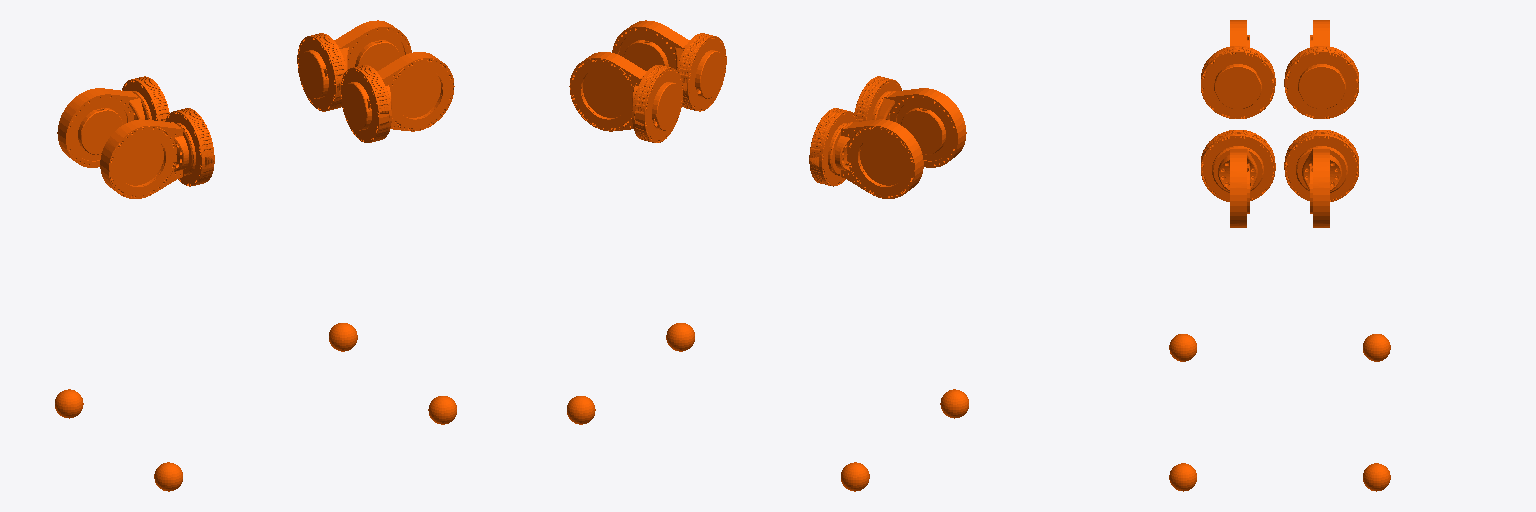
--- What the picture shows (computed from the rendered views, not written in the file) ---
3 views of the same robot in one strip: view 1: azimuth 30°, elevation 25°; view 2: azimuth 150°, elevation 25°; view 3: azimuth 270°, elevation 25° (orthographic).
Model quake_description with 23 links and 22 joints (12 revolute, 10 fixed), rooted at base, posed all joints at 0.
Visible links, largest first — view 1: RR_hip, FR_hip, FL_hip, RL_hip, RR_foot, FL_foot, FR_foot, RL_foot; view 2: RL_hip, FL_hip, FR_hip, RR_hip, RL_foot, FR_foot, FL_foot, RR_foot; view 3: RL_hip, RR_hip, FL_hip, FR_hip, RR_foot, RL_foot, FR_foot, FL_foot.
Link boxes in pixels (x1,y1,x2,y2): RR_hip: [100, 108, 214, 198]; FR_hip: [341, 52, 454, 142]; FL_hip: [297, 20, 411, 111]; RL_hip: [57, 76, 169, 167]; RR_foot: [154, 462, 182, 491]; FL_foot: [329, 323, 357, 351]; FR_foot: [428, 396, 456, 424]; RL_foot: [55, 389, 83, 418]; RL_hip: [809, 108, 923, 198]; FL_hip: [569, 52, 682, 142]; FR_hip: [612, 20, 726, 111]; RR_hip: [854, 76, 966, 167]; RL_foot: [841, 462, 869, 491]; FR_foot: [666, 323, 694, 351]; FL_foot: [567, 396, 595, 424]; RR_foot: [940, 389, 968, 418]; RL_hip: [1284, 20, 1358, 118]; RR_hip: [1201, 20, 1275, 118]; FL_hip: [1284, 130, 1358, 227]; FR_hip: [1201, 130, 1275, 227]; RR_foot: [1169, 334, 1196, 361]; RL_foot: [1363, 334, 1390, 361]; FR_foot: [1169, 463, 1196, 491]; FL_foot: [1363, 463, 1390, 491].
Size in the robot's own frame: 0.877 by 0.502 by 0.839 metres.
4 mesh visuals loaded from 5 distinct referenced files (1 binary STL); not drawn: 9 (reference not matched to a file when rendering).

The robot description file, URDF, robot "quake_description":
<?xml version="1.0" encoding="utf-8"?>
<!-- =================================================================================== -->
<!-- |    This document was autogenerated by xacro from robot.xacro                    | -->
<!-- |    EDITING THIS FILE BY HAND IS NOT RECOMMENDED                                 | -->
<!-- =================================================================================== -->
<robot name="quake_description">
  <!-- ? -->
  <!-- ? -->
  <!-- arm -->
  <!-- <xacro:property name="arm_base_mass" value=""/> 
    <xacro:property name="arm_base_width" value=""/> 
    <xacro:property name="arm_base_length" value=""/> 
    <xacro:property name="arm_base_height" value=""/> 
    <xacro:property name="arm_base_com_x" value=""/> 
    <xacro:property name="arm_base_com_y" value=""/> 
    <xacro:property name="arm_base_com_z" value=""/> 
    <xacro:property name="arm_base_ixx" value=""/>
    <xacro:property name="arm_base_ixy" value=""/>
    <xacro:property name="arm_base_ixz" value=""/>
    <xacro:property name="arm_base_iyy" value=""/>
    <xacro:property name="arm_base_iyz" value=""/>
    <xacro:property name="arm_base_izz" value=""/> -->
  <material name="black">
    <color rgba="0.0 0.0 0.0 1.0"/>
  </material>
  <material name="blue">
    <color rgba="0.0 0.0 0.8 1.0"/>
  </material>
  <material name="green">
    <color rgba="0.0 0.8 0.0 1.0"/>
  </material>
  <material name="grey">
    <color rgba="0.2 0.2 0.2 1.0"/>
  </material>
  <material name="silver">
    <color rgba="0.913725490196 0.913725490196 0.847058823529 1.0"/>
  </material>
  <material name="orange">
    <color rgba="1.0 0.423529411765 0.0392156862745 1.0"/>
  </material>
  <material name="brown">
    <color rgba="0.870588235294 0.811764705882 0.764705882353 1.0"/>
  </material>
  <material name="red">
    <color rgba="0.8 0.0 0.0 1.0"/>
  </material>
  <material name="white">
    <color rgba="1.0 1.0 1.0 1.0"/>
  </material>
  <!-- ros_control plugin -->
  <gazebo>
    <plugin filename="libgazebo_ros_control.so" name="gazebo_ros_control">
      <robotNamespace>/quake_gazebo</robotNamespace>
      <robotSimType>gazebo_ros_control/DefaultRobotHWSim</robotSimType>
    </plugin>
  </gazebo>
  <!-- Show the trajectory of trunk center. -->
  <gazebo>
    <plugin filename="libLinkPlot3DPlugin.so" name="3dplot">
      <frequency>10</frequency>
      <plot>
        <link>base</link>
        <pose>0 0 0 0 0 0</pose>
        <material>Gazebo/Yellow</material>
      </plot>
    </plugin>
  </gazebo>
  <!-- Show the trajectory of foot. You can add another trajectory about another foot. -->
  <!-- <gazebo>
        <plugin name="3dplot" filename="libLinkPlot3DPlugin.so">
            <frequency>100</frequency>
            <plot>
                <link>FL_foot</link>
                <pose>0 0 0 0 0 0</pose>
                <material>Gazebo/Green</material>
            </plot>
        </plugin>
    </gazebo> -->
  <gazebo>
    <plugin filename="libgazebo_ros_force.so" name="gazebo_ros_force">
      <bodyName>trunk</bodyName>
      <topicName>/apply_force/trunk</topicName>
    </plugin>
  </gazebo>
  <gazebo reference="imu_link">
    <gravity>true</gravity>
    <sensor name="imu_sensor" type="imu">
      <always_on>true</always_on>
      <update_rate>1000</update_rate>
      <visualize>true</visualize>
      <topic>__default_topic__</topic>
      <plugin filename="libgazebo_ros_imu_sensor.so" name="imu_plugin">
        <topicName>trunk_imu</topicName>
        <bodyName>imu_link</bodyName>
        <updateRateHZ>1000.0</updateRateHZ>
        <gaussianNoise>0.001</gaussianNoise>
        <xyzOffset>0 0 0</xyzOffset>
        <rpyOffset>0 0 0</rpyOffset>
        <frameName>imu_link</frameName>
      </plugin>
      <pose>0 0 0 0 0 0</pose>
    </sensor>
  </gazebo>
  <!-- Foot contacts. -->
  <gazebo reference="FR_calf">
    <sensor name="FR_foot_contact" type="contact">
      <update_rate>100</update_rate>
      <plugin filename="libunitreeFootContactPlugin.so" name="contactPlugin"/>
      <contact>
        <collision>FR_calf_fixed_joint_lump__FR_foot_collision_1</collision>
      </contact>
    </sensor>
  </gazebo>
  <gazebo reference="FL_calf">
    <sensor name="FL_foot_contact" type="contact">
      <update_rate>100</update_rate>
      <plugin filename="libunitreeFootContactPlugin.so" name="contactPlugin"/>
      <contact>
        <collision>FL_calf_fixed_joint_lump__FL_foot_collision_1</collision>
      </contact>
    </sensor>
  </gazebo>
  <gazebo reference="RR_calf">
    <sensor name="RR_foot_contact" type="contact">
      <update_rate>100</update_rate>
      <plugin filename="libunitreeFootContactPlugin.so" name="contactPlugin"/>
      <contact>
        <collision>RR_calf_fixed_joint_lump__RR_foot_collision_1</collision>
      </contact>
    </sensor>
  </gazebo>
  <gazebo reference="RL_calf">
    <sensor name="RL_foot_contact" type="contact">
      <update_rate>100</update_rate>
      <plugin filename="libunitreeFootContactPlugin.so" name="contactPlugin"/>
      <contact>
        <collision>RL_calf_fixed_joint_lump__RL_foot_collision_1</collision>
      </contact>
    </sensor>
  </gazebo>
  <!-- Visualization of Foot contacts. -->
  <gazebo reference="FR_foot">
    <visual>
      <plugin filename="libunitreeDrawForcePlugin.so" name="drawForcePlugin">
        <topicName>FR_foot_contact</topicName>
      </plugin>
    </visual>
  </gazebo>
  <gazebo reference="FL_foot">
    <visual>
      <plugin filename="libunitreeDrawForcePlugin.so" name="drawForcePlugin">
        <topicName>FL_foot_contact</topicName>
      </plugin>
    </visual>
  </gazebo>
  <gazebo reference="RR_foot">
    <visual>
      <plugin filename="libunitreeDrawForcePlugin.so" name="drawForcePlugin">
        <topicName>RR_foot_contact</topicName>
      </plugin>
    </visual>
  </gazebo>
  <gazebo reference="RL_foot">
    <visual>
      <plugin filename="libunitreeDrawForcePlugin.so" name="drawForcePlugin">
        <topicName>RL_foot_contact</topicName>
      </plugin>
    </visual>
  </gazebo>
  <gazebo reference="base">
    <material>Gazebo/Green</material>
    <turnGravityOff>false</turnGravityOff>
  </gazebo>
  <gazebo reference="trunk">
    <mu1>0.2</mu1>
    <mu2>0.2</mu2>
    <kp value="1000000.0"/>
    <kd value="1.0"/>
  </gazebo>
  <gazebo reference="stick_link">
    <mu1>0.2</mu1>
    <mu2>0.2</mu2>
    <material>Gazebo/White</material>
  </gazebo>
  <gazebo reference="imu_link">
    <mu1>0.2</mu1>
    <mu2>0.2</mu2>
    <material>Gazebo/Red</material>
  </gazebo>
  <!-- FL leg -->
  <gazebo reference="FL_hip">
    <mu1>0.2</mu1>
    <mu2>0.2</mu2>
    <material>Gazebo/DarkGrey</material>
  </gazebo>
  <gazebo reference="FL_thigh">
    <mu1>0.2</mu1>
    <mu2>0.2</mu2>
    <self_collide>1</self_collide>
    <material>Gazebo/DarkGrey</material>
    <kp value="1000000.0"/>
    <kd value="1.0"/>
  </gazebo>
  <gazebo reference="FL_calf">
    <mu1>0.2</mu1>
    <mu2>0.2</mu2>
    <self_collide>1</self_collide>
  </gazebo>
  <gazebo reference="FL_foot">
    <mu1>0.6</mu1>
    <mu2>0.6</mu2>
    <self_collide>1</self_collide>
    <material>Gazebo/DarkGrey</material>
    <kp value="1000000.0"/>
    <kd value="1.0"/>
  </gazebo>
  <!-- FR leg -->
  <gazebo reference="FR_hip">
    <mu1>0.2</mu1>
    <mu2>0.2</mu2>
    <material>Gazebo/DarkGrey</material>
  </gazebo>
  <gazebo reference="FR_thigh">
    <mu1>0.2</mu1>
    <mu2>0.2</mu2>
    <self_collide>1</self_collide>
    <material>Gazebo/DarkGrey</material>
    <kp value="1000000.0"/>
    <kd value="1.0"/>
  </gazebo>
  <gazebo reference="FR_calf">
    <mu1>0.2</mu1>
    <mu2>0.2</mu2>
    <self_collide>1</self_collide>
  </gazebo>
  <gazebo reference="FR_foot">
    <mu1>0.6</mu1>
    <mu2>0.6</mu2>
    <self_collide>1</self_collide>
    <material>Gazebo/DarkGrey</material>
    <kp value="1000000.0"/>
    <kd value="1.0"/>
  </gazebo>
  <!-- RL leg -->
  <gazebo reference="RL_hip">
    <mu1>0.2</mu1>
    <mu2>0.2</mu2>
    <material>Gazebo/DarkGrey</material>
  </gazebo>
  <gazebo reference="RL_thigh">
    <mu1>0.2</mu1>
    <mu2>0.2</mu2>
    <self_collide>1</self_collide>
    <material>Gazebo/DarkGrey</material>
    <kp value="1000000.0"/>
    <kd value="1.0"/>
  </gazebo>
  <gazebo reference="RL_calf">
    <mu1>0.2</mu1>
    <mu2>0.2</mu2>
    <self_collide>1</self_collide>
  </gazebo>
  <gazebo reference="RL_foot">
    <mu1>0.6</mu1>
    <mu2>0.6</mu2>
    <self_collide>1</self_collide>
    <material>Gazebo/DarkGrey</material>
    <kp value="1000000.0"/>
    <kd value="1.0"/>
  </gazebo>
  <!-- RR leg -->
  <gazebo reference="RR_hip">
    <mu1>0.2</mu1>
    <mu2>0.2</mu2>
    <material>Gazebo/DarkGrey</material>
  </gazebo>
  <gazebo reference="RR_thigh">
    <mu1>0.2</mu1>
    <mu2>0.2</mu2>
    <self_collide>1</self_collide>
    <material>Gazebo/DarkGrey</material>
    <kp value="1000000.0"/>
    <kd value="1.0"/>
  </gazebo>
  <gazebo reference="RR_calf">
    <mu1>0.2</mu1>
    <mu2>0.2</mu2>
    <self_collide>1</self_collide>
  </gazebo>
  <gazebo reference="RR_foot">
    <mu1>0.6</mu1>
    <mu2>0.6</mu2>
    <self_collide>1</self_collide>
    <material>Gazebo/DarkGrey</material>
    <kp value="1000000.0"/>
    <kd value="1.0"/>
  </gazebo>
  <transmission name="arm_joint1_tran">
    <type>transmission_interface/SimpleTransmission</type>
    <joint name="arm_joint1">
      <hardwareInterface>hardware_interface/EffortJointInterface</hardwareInterface>
    </joint>
    <actuator name="arm_joint1_motor">
      <hardwareInterface>hardware_interface/EffortJointInterface</hardwareInterface>
      <mechanicalReduction>1</mechanicalReduction>
    </actuator>
  </transmission>
  <transmission name="arm_joint2_tran">
    <type>transmission_interface/SimpleTransmission</type>
    <joint name="arm_joint2">
      <hardwareInterface>hardware_interface/EffortJointInterface</hardwareInterface>
    </joint>
    <actuator name="arm_joint2_motor">
      <hardwareInterface>hardware_interface/EffortJointInterface</hardwareInterface>
      <mechanicalReduction>1</mechanicalReduction>
    </actuator>
  </transmission>
  <transmission name="arm_joint3_tran">
    <type>transmission_interface/SimpleTransmission</type>
    <joint name="arm_joint3">
      <hardwareInterface>hardware_interface/EffortJointInterface</hardwareInterface>
    </joint>
    <actuator name="arm_joint3_motor">
      <hardwareInterface>hardware_interface/EffortJointInterface</hardwareInterface>
      <mechanicalReduction>1</mechanicalReduction>
    </actuator>
  </transmission>
  <transmission name="arm_joint4_tran">
    <type>transmission_interface/SimpleTransmission</type>
    <joint name="arm_joint4">
      <hardwareInterface>hardware_interface/EffortJointInterface</hardwareInterface>
    </joint>
    <actuator name="arm_joint4_motor">
      <hardwareInterface>hardware_interface/EffortJointInterface</hardwareInterface>
      <mechanicalReduction>1</mechanicalReduction>
    </actuator>
  </transmission>
  <transmission name="arm_joint5_tran">
    <type>transmission_interface/SimpleTransmission</type>
    <joint name="arm_joint5">
      <hardwareInterface>hardware_interface/EffortJointInterface</hardwareInterface>
    </joint>
    <actuator name="arm_joint5_motor">
      <hardwareInterface>hardware_interface/EffortJointInterface</hardwareInterface>
      <mechanicalReduction>1</mechanicalReduction>
    </actuator>
  </transmission>
  <transmission name="arm_joint6_tran">
    <type>transmission_interface/SimpleTransmission</type>
    <joint name="arm_joint6">
      <hardwareInterface>hardware_interface/EffortJointInterface</hardwareInterface>
    </joint>
    <actuator name="arm_joint6_motor">
      <hardwareInterface>hardware_interface/EffortJointInterface</hardwareInterface>
      <mechanicalReduction>1</mechanicalReduction>
    </actuator>
  </transmission>
  <link name="base">
    <visual>
      <origin rpy="0 0 0" xyz="0 0 0"/>
      <geometry>
        <box size="0.001 0.001 0.001"/>
      </geometry>
    </visual>
  </link>
  <joint name="floating_base" type="fixed">
    <origin rpy="0 0 0" xyz="0 0 0"/>
    <parent link="base"/>
    <child link="trunk"/>
  </joint>
  <link name="trunk">
    <visual>
      <origin rpy="0 0 0" xyz="0 0 0"/>
      <geometry>
        <mesh filename="package://quake_description/meshes/trunk.STL" scale="1 1 1"/>
      </geometry>
      <material name="orange"/>
    </visual>
    <!-- <collision>
            <origin rpy="0 0 0" xyz="0 0 0"/>
            <geometry>
                <mesh filename="package://quake_description/meshes/trunk.STL" scale="1 1 1"/>
            </geometry>
        </collision> -->
    <inertial>
      <origin rpy="0 0 0" xyz="0.0 0.0 0.0"/>
      <mass value="40.116"/>
      <inertia ixx="0.2" ixy="-0.00023853" ixz="2.4844e-05" iyy="0.5" iyz="-0.00044715" izz="0.6"/>
    </inertial>
  </link>
  <joint name="imu_joint" type="fixed">
    <parent link="trunk"/>
    <child link="imu_link"/>
    <origin rpy="0 0 0" xyz="0 0 0"/>
  </joint>
  <link name="imu_link">
    <inertial>
      <mass value="0.001"/>
      <origin rpy="0 0 0" xyz="0 0 0"/>
      <inertia ixx="0.0001" ixy="0" ixz="0" iyy="0.000001" iyz="0" izz="0.0001"/>
    </inertial>
    <visual>
      <origin rpy="0 0 0" xyz="0 0 0"/>
      <geometry>
        <box size="0.001 0.001 0.001"/>
      </geometry>
      <material name="red"/>
    </visual>
    <collision>
      <origin rpy="0 0 0" xyz="0 0 0"/>
      <geometry>
        <box size=".001 .001 .001"/>
      </geometry>
    </collision>
  </link>
  
  
  <joint name="FR_hip_joint" type="revolute">
    <origin rpy="0 0 0" xyz="0.241 -0.095 0"/>
    <parent link="trunk"/>
    <child link="FR_hip"/>
    <axis xyz="1 0 0"/>
    <dynamics damping="0" friction="0"/>
    <limit effort="200" lower="-1.13008323737" upper="1.13008323737" velocity="52.4"/>
  </joint>
  <link name="FR_hip">
    <visual>
      <origin rpy="3.14159265359 0 0" xyz="0 0 0"/>
      <geometry>
        <mesh filename="package://quake_description/meshes/hip.STL" scale="1 1 1"/>
      </geometry>
      <material name="orange"/>
    </visual>
    <collision>
      <origin rpy="1.57079632679 0 0" xyz="0 0.04 0"/>
      <geometry>
        <cylinder length="0.08" radius="0.041"/>
      </geometry>
    </collision>
    <inertial>
      <origin rpy="0 0 0" xyz="-0.001568 0.008134 0.000864"/>
      <mass value="1.8188"/>
      <inertia ixx="0.0047303" ixy="-2.3798e-05" ixz="-4.2348e-08" iyy="0.0051123" iyz="3.807e-06" izz="0.0035171"/>
    </inertial>
  </link>
  <joint name="FR_hip_fixed" type="fixed">
    <origin rpy="0 0 0" xyz="0 -0.04 0"/>
    <parent link="FR_hip"/>
    <child link="FR_thigh_shoulder"/>
  </joint>
  <!-- this link is only for collision -->
  <link name="FR_thigh_shoulder">
    <collision>
      <origin rpy="1.57079632679 0 0" xyz="0 0 0"/>
      <geometry>
        <cylinder length="0.08" radius="0.044"/>
      </geometry>
    </collision>
  </link>
  <joint name="FR_thigh_joint" type="revolute">
    <origin rpy="0 0 0" xyz="0.1065 -0.062 0"/>
    <parent link="FR_hip"/>
    <child link="FR_thigh"/>
    <axis xyz="0 -1 0"/>
    <dynamics damping="0" friction="0"/>
    <limit effort="550" lower="-3.40025044874" upper="0.200014732279" velocity="28.6"/>
  </joint>
  <link name="FR_thigh">
    <visual>
      <origin rpy="0 0 0" xyz="0 0 0"/>
      <geometry>
        <mesh filename="package://quake_description/meshes/thigh_mirror.STL" scale="1 1 1"/>
      </geometry>
      <material name="orange"/>
    </visual>
    <collision>
      <origin rpy="0 1.57079632679 0" xyz="0 0 -0.18"/>
      <geometry>
        <box size="0.36 0.034 0.043"/>
      </geometry>
    </collision>
    <inertial>
      <origin rpy="0 0 0" xyz="-0.000482 -0.02001 -0.031996"/>
      <mass value="1.7272"/>
      <inertia ixx="0.010387" ixy="-2.7648e-05" ixz="-0.0006887" iyy="0.013004" iyz="-0.00021997" izz="0.0029272"/>
    </inertial>
  </link>
  <joint name="FR_calf_joint" type="revolute">
    <origin rpy="0 0 0" xyz="0 -0.062 -0.36"/>
    <parent link="FR_thigh"/>
    <child link="FR_calf"/>
    <axis xyz="0 -1 0"/>
    <dynamics damping="0" friction="0"/>
    <limit effort="550" lower="-0.100007366139" upper="2.90021361804" velocity="28.6"/>
  </joint>
  <link name="FR_calf">
    <visual>
      <origin rpy="0 0 0" xyz="0 0 0"/>
      <geometry>
        <mesh filename="package://quake_description/meshes/calf.STL" scale="1 1 1"/>
      </geometry>
      <surface>
        <friction>
          <ode>
            <mu>100.0</mu>
            <mu2>100.0</mu2>
          </ode>
        </friction>
      </surface>
      <material name="orange"/>
    </visual>
    <collision>
      <origin rpy="0 1.57079632679 0" xyz="0 0 -0.18"/>
      <geometry>
        <box size="0.36 0.016 0.016"/>
      </geometry>
      <surface>
        <friction>
          <ode>
            <mu>100.0</mu>
            <mu2>100.0</mu2>
          </ode>
        </friction>
      </surface>
    </collision>
    <inertial>
      <origin rpy="0 0 0" xyz="-0.002196 -0.000381 -0.12338"/>
      <mass value="0.30254"/>
      <inertia ixx="0.0031787" ixy="-1.5425e-07" ixz="0.0002511" iyy="0.0032683" iyz="3.2937e-07" izz="0.0001467"/>
    </inertial>
  </link>
  <joint name="FR_foot_fixed" type="fixed">
    <origin rpy="0 0 0" xyz="0 0 -0.36"/>
    <parent link="FR_calf"/>
    <child link="FR_foot"/>
  </joint>
  <link name="FR_foot">
    <visual>
      <origin rpy="0 0 0" xyz="0 0 0"/>
      <geometry>
        <sphere radius="0.032"/>
      </geometry>
      <surface>
        <friction>
          <ode>
            <mu>100.0</mu>
            <mu2>100.0</mu2>
          </ode>
        </friction>
      </surface>
      <material name="orange"/>
    </visual>
    <collision>
      <origin rpy="0 0 0" xyz="0 0 0"/>
      <geometry>
        <sphere radius="0.042"/>
      </geometry>
      <surface>
        <friction>
          <ode>
            <mu>100.0</mu>
            <mu2>100.0</mu2>
          </ode>
        </friction>
        <!-- <contact>
                <min_depth>0.01</min_depth>
                </contact> -->
      </surface>
    </collision>
    <inertial>
      <mass value="0.06"/>
      <inertia ixx="4.2336e-05" ixy="0.0" ixz="0.0" iyy="4.2336e-05" iyz="0.0" izz="4.2336e-05"/>
    </inertial>
  </link>
  <transmission name="FR_hip_tran">
    <type>transmission_interface/SimpleTransmission</type>
    <joint name="FR_hip_joint">
      <hardwareInterface>hardware_interface/EffortJointInterface</hardwareInterface>
    </joint>
    <actuator name="FR_hip_motor">
      <hardwareInterface>hardware_interface/EffortJointInterface</hardwareInterface>
      <mechanicalReduction>1</mechanicalReduction>
    </actuator>
  </transmission>
  <transmission name="FR_thigh_tran">
    <type>transmission_interface/SimpleTransmission</type>
    <joint name="FR_thigh_joint">
      <hardwareInterface>hardware_interface/EffortJointInterface</hardwareInterface>
    </joint>
    <actuator name="FR_thigh_motor">
      <hardwareInterface>hardware_interface/EffortJointInterface</hardwareInterface>
      <mechanicalReduction>1</mechanicalReduction>
    </actuator>
  </transmission>
  <transmission name="FR_calf_tran">
  
    <type>transmission_interface/SimpleTransmission</type>
    <joint name="FR_calf_joint">
      <hardwareInterface>hardware_interface/EffortJointInterface</hardwareInterface>
    </joint>
    <actuator name="FR_calf_motor">
      <hardwareInterface>hardware_interface/EffortJointInterface</hardwareInterface>
      <mechanicalReduction>1</mechanicalReduction>
    </actuator>
  </transmission>
  
  
  <joint name="FL_hip_joint" type="revolute">
    <origin rpy="0 0 0" xyz="0.241 0.095 0"/>
    <parent link="trunk"/>
    <child link="FL_hip"/>
    <axis xyz="1 0 0"/>
    <dynamics damping="0" friction="0"/>
    <limit effort="200" lower="-1.13008323737" upper="1.13008323737" velocity="52.4"/>
  </joint>
  <link name="FL_hip">
    <visual>
      <origin rpy="0 0 0" xyz="0 0 0"/>
      <geometry>
        <mesh filename="package://quake_description/meshes/hip.STL" scale="1 1 1"/>
      </geometry>
      <material name="orange"/>
    </visual>
    <collision>
      <origin rpy="1.57079632679 0 0" xyz="0 -0.04 0"/>
      <geometry>
        <cylinder length="0.08" radius="0.041"/>
      </geometry>
    </collision>
    <inertial>
      <origin rpy="0 0 0" xyz="-0.001568 -0.008134 0.000864"/>
      <mass value="1.8188"/>
      <inertia ixx="0.0047303" ixy="2.3798e-05" ixz="-4.2348e-08" iyy="0.0051123" iyz="-3.807e-06" izz="0.0035171"/>
    </inertial>
  </link>
  <joint name="FL_hip_fixed" type="fixed">
    <origin rpy="0 0 0" xyz="0 0.04 0"/>
    <parent link="FL_hip"/>
    <child link="FL_thigh_shoulder"/>
  </joint>
  <!-- this link is only for collision -->
  <link name="FL_thigh_shoulder">
    <collision>
      <origin rpy="1.57079632679 0 0" xyz="0 0 0"/>
      <geometry>
        <cylinder length="0.08" radius="0.044"/>
      </geometry>
    </collision>
  </link>
  <joint name="FL_thigh_joint" type="revolute">
    <origin rpy="0 0 0" xyz="0.1065 0.062 0"/>
    <parent link="FL_hip"/>
    <child link="FL_thigh"/>
    <axis xyz="0 -1 0"/>
    <dynamics damping="0" friction="0"/>
    <limit effort="550" lower="-3.40025044874" upper="0.200014732279" velocity="28.6"/>
  </joint>
  <link name="FL_thigh">
    <visual>
      <origin rpy="0 0 0" xyz="0 0 0"/>
      <geometry>
        <mesh filename="package://quake_description/meshes/thigh.STL" scale="1 1 1"/>
      </geometry>
      <material name="orange"/>
    </visual>
    <collision>
      <origin rpy="0 1.57079632679 0" xyz="0 0 -0.18"/>
      <geometry>
        <box size="0.36 0.034 0.043"/>
      </geometry>
    </collision>
    <inertial>
      <origin rpy="0 0 0" xyz="-0.000482 0.02001 -0.031996"/>
      <mass value="1.7272"/>
      <inertia ixx="0.010387" ixy="2.7648e-05" ixz="-0.0006887" iyy="0.013004" iyz="0.00021997" izz="0.0029272"/>
    </inertial>
  </link>
  <joint name="FL_calf_joint" type="revolute">
    <origin rpy="0 0 0" xyz="0 0.062 -0.36"/>
    <parent link="FL_thigh"/>
    <child link="FL_calf"/>
    <axis xyz="0 -1 0"/>
    <dynamics damping="0" friction="0"/>
    <limit effort="550" lower="-0.100007366139" upper="2.90021361804" velocity="28.6"/>
  </joint>
  <link name="FL_calf">
    <visual>
      <origin rpy="0 0 0" xyz="0 0 0"/>
      <geometry>
        <mesh filename="package://quake_description/meshes/calf.STL" scale="1 1 1"/>
      </geometry>
      <surface>
        <friction>
          <ode>
            <mu>100.0</mu>
            <mu2>100.0</mu2>
          </ode>
        </friction>
      </surface>
      <material name="orange"/>
    </visual>
    <collision>
      <origin rpy="0 1.57079632679 0" xyz="0 0 -0.18"/>
      <geometry>
        <box size="0.36 0.016 0.016"/>
      </geometry>
      <surface>
        <friction>
          <ode>
            <mu>100.0</mu>
            <mu2>100.0</mu2>
          </ode>
        </friction>
      </surface>
    </collision>
    <inertial>
      <origin rpy="0 0 0" xyz="-0.002196 -0.000381 -0.12338"/>
      <mass value="0.30254"/>
      <inertia ixx="0.0031787" ixy="-1.5425e-07" ixz="0.0002511" iyy="0.0032683" iyz="3.2937e-07" izz="0.0001467"/>
    </inertial>
  </link>
  <joint name="FL_foot_fixed" type="fixed">
    <origin rpy="0 0 0" xyz="0 0 -0.36"/>
    <parent link="FL_calf"/>
    <child link="FL_foot"/>
  </joint>
  <link name="FL_foot">
    <visual>
      <origin rpy="0 0 0" xyz="0 0 0"/>
      <geometry>
        <sphere radius="0.032"/>
      </geometry>
      <surface>
        <friction>
          <ode>
            <mu>100.0</mu>
            <mu2>100.0</mu2>
          </ode>
        </friction>
      </surface>
      <material name="orange"/>
    </visual>
    <collision>
      <origin rpy="0 0 0" xyz="0 0 0"/>
      <geometry>
        <sphere radius="0.042"/>
      </geometry>
      <surface>
        <friction>
          <ode>
            <mu>100.0</mu>
            <mu2>100.0</mu2>
          </ode>
        </friction>
        <!-- <contact>
                <min_depth>0.01</min_depth>
                </contact> -->
      </surface>
    </collision>
    <inertial>
      <mass value="0.06"/>
      <inertia ixx="4.2336e-05" ixy="0.0" ixz="0.0" iyy="4.2336e-05" iyz="0.0" izz="4.2336e-05"/>
    </inertial>
  </link>
  <transmission name="FL_hip_tran">
    <type>transmission_interface/SimpleTransmission</type>
    <joint name="FL_hip_joint">
      <hardwareInterface>hardware_interface/EffortJointInterface</hardwareInterface>
    </joint>
    <actuator name="FL_hip_motor">
      <hardwareInterface>hardware_interface/EffortJointInterface</hardwareInterface>
      <mechanicalReduction>1</mechanicalReduction>
    </actuator>
  </transmission>
  <transmission name="FL_thigh_tran">
    <type>transmission_interface/SimpleTransmission</type>
    <joint name="FL_thigh_joint">
      <hardwareInterface>hardware_interface/EffortJointInterface</hardwareInterface>
    </joint>
    <actuator name="FL_thigh_motor">
      <hardwareInterface>hardware_interface/EffortJointInterface</hardwareInterface>
      <mechanicalReduction>1</mechanicalReduction>
    </actuator>
  </transmission>
  <transmission name="FL_calf_tran">
    <type>transmission_interface/SimpleTransmission</type>
    <joint name="FL_calf_joint">
      <hardwareInterface>hardware_interface/EffortJointInterface</hardwareInterface>
    </joint>
    <actuator name="FL_calf_motor">
      <hardwareInterface>hardware_interface/EffortJointInterface</hardwareInterface>
      <mechanicalReduction>1</mechanicalReduction>
    </actuator>
  </transmission>
  <joint name="RR_hip_joint" type="revolute">
    <origin rpy="0 0 0" xyz="-0.241 -0.095 0"/>
    <parent link="trunk"/>
    <child link="RR_hip"/>
    <axis xyz="1 0 0"/>
    <dynamics damping="0" friction="0"/>
    <limit effort="200" lower="-1.13008323737" upper="1.13008323737" velocity="52.4"/>
  </joint>
  <link name="RR_hip">
    <visual>
      <origin rpy="3.14159265359 3.14159265359 0" xyz="0 0 0"/>
      <geometry>
        <mesh filename="package://quake_description/meshes/hip.STL" scale="1 1 1"/>
      </geometry>
      <material name="orange"/>
    </visual>
    <collision>
      <origin rpy="1.57079632679 0 0" xyz="0 0.04 0"/>
      <geometry>
        <cylinder length="0.08" radius="0.041"/>
      </geometry>
    </collision>
    <inertial>
      <origin rpy="0 0 0" xyz="0.001568 0.008134 0.000864"/>
      <mass value="1.8188"/>
      <inertia ixx="0.0047303" ixy="2.3798e-05" ixz="4.2348e-08" iyy="0.0051123" iyz="3.807e-06" izz="0.0035171"/>
    </inertial>
  </link>
  <joint name="RR_hip_fixed" type="fixed">
    <origin rpy="0 0 0" xyz="0 -0.04 0"/>
    <parent link="RR_hip"/>
    <child link="RR_thigh_shoulder"/>
  </joint>
  <!-- this link is only for collision -->
  <link name="RR_thigh_shoulder">
    <collision>
      <origin rpy="1.57079632679 0 0" xyz="0 0 0"/>
      <geometry>
        <cylinder length="0.08" radius="0.044"/>
      </geometry>
    </collision>
  </link>
  <joint name="RR_thigh_joint" type="revolute">
    <origin rpy="0 0 0" xyz="-0.1065 -0.062 0"/>
    <parent link="RR_hip"/>
    <child link="RR_thigh"/>
    <axis xyz="0 -1 0"/>
    <dynamics damping="0" friction="0"/>
    <limit effort="550" lower="-3.40025044874" upper="0.200014732279" velocity="28.6"/>
  </joint>
  <link name="RR_thigh">
    <visual>
      <origin rpy="0 0 0" xyz="0 0 0"/>
      <geometry>
        <mesh filename="package://quake_description/meshes/thigh_mirror.STL" scale="1 1 1"/>
      </geometry>
      <material name="orange"/>
    </visual>
    <collision>
      <origin rpy="0 1.57079632679 0" xyz="0 0 -0.18"/>
      <geometry>
        <box size="0.36 0.034 0.043"/>
      </geometry>
    </collision>
    <inertial>
      <origin rpy="0 0 0" xyz="-0.000482 -0.02001 -0.031996"/>
      <mass value="1.7272"/>
      <inertia ixx="0.010387" ixy="-2.7648e-05" ixz="-0.0006887" iyy="0.013004" iyz="-0.00021997" izz="0.0029272"/>
    </inertial>
  </link>
  <joint name="RR_calf_joint" type="revolute">
    <origin rpy="0 0 0" xyz="0 -0.062 -0.36"/>
    <parent link="RR_thigh"/>
    <child link="RR_calf"/>
    <axis xyz="0 -1 0"/>
    <dynamics damping="0" friction="0"/>
    <limit effort="550" lower="-0.100007366139" upper="2.90021361804" velocity="28.6"/>
  </joint>
  <link name="RR_calf">
    <visual>
      <origin rpy="0 0 0" xyz="0 0 0"/>
      <geometry>
        <mesh filename="package://quake_description/meshes/calf.STL" scale="1 1 1"/>
      </geometry>
      <surface>
        <friction>
          <ode>
            <mu>100.0</mu>
            <mu2>100.0</mu2>
          </ode>
        </friction>
      </surface>
      <material name="orange"/>
    </visual>
    <collision>
      <origin rpy="0 1.57079632679 0" xyz="0 0 -0.18"/>
      <geometry>
        <box size="0.36 0.016 0.016"/>
      </geometry>
      <surface>
        <friction>
          <ode>
            <mu>100.0</mu>
            <mu2>100.0</mu2>
          </ode>
        </friction>
      </surface>
    </collision>
    <inertial>
      <origin rpy="0 0 0" xyz="-0.002196 -0.000381 -0.12338"/>
      <mass value="0.30254"/>
      <inertia ixx="0.0031787" ixy="-1.5425e-07" ixz="0.0002511" iyy="0.0032683" iyz="3.2937e-07" izz="0.0001467"/>
    </inertial>
  </link>
  <joint name="RR_foot_fixed" type="fixed">
    <origin rpy="0 0 0" xyz="0 0 -0.36"/>
    <parent link="RR_calf"/>
    <child link="RR_foot"/>
  </joint>
  <link name="RR_foot">
    <visual>
      <origin rpy="0 0 0" xyz="0 0 0"/>
      <geometry>
        <sphere radius="0.032"/>
      </geometry>
      <surface>
        <friction>
          <ode>
            <mu>100.0</mu>
            <mu2>100.0</mu2>
          </ode>
        </friction>
      </surface>
      <material name="orange"/>
    </visual>
    <collision>
      <origin rpy="0 0 0" xyz="0 0 0"/>
      <geometry>
        <sphere radius="0.042"/>
      </geometry>
      <surface>
        <friction>
          <ode>
            <mu>100.0</mu>
            <mu2>100.0</mu2>
          </ode>
        </friction>
        <!-- <contact>
                <min_depth>0.01</min_depth>
                </contact> -->
      </surface>
    </collision>
    <inertial>
      <mass value="0.06"/>
      <inertia ixx="4.2336e-05" ixy="0.0" ixz="0.0" iyy="4.2336e-05" iyz="0.0" izz="4.2336e-05"/>
    </inertial>
  </link>
  <transmission name="RR_hip_tran">
    <type>transmission_interface/SimpleTransmission</type>
    <joint name="RR_hip_joint">
      <hardwareInterface>hardware_interface/EffortJointInterface</hardwareInterface>
    </joint>
    <actuator name="RR_hip_motor">
      <hardwareInterface>hardware_interface/EffortJointInterface</hardwareInterface>
      <mechanicalReduction>1</mechanicalReduction>
    </actuator>
  </transmission>
  <transmission name="RR_thigh_tran">
    <type>transmission_interface/SimpleTransmission</type>
    <joint name="RR_thigh_joint">
      <hardwareInterface>hardware_interface/EffortJointInterface</hardwareInterface>
    </joint>
    <actuator name="RR_thigh_motor">
      <hardwareInterface>hardware_interface/EffortJointInterface</hardwareInterface>
      <mechanicalReduction>1</mechanicalReduction>
    </actuator>
  </transmission>
  <transmission name="RR_calf_tran">
    <type>transmission_interface/SimpleTransmission</type>
    <joint name="RR_calf_joint">
      <hardwareInterface>hardware_interface/EffortJointInterface</hardwareInterface>
    </joint>
    <actuator name="RR_calf_motor">
      <hardwareInterface>hardware_interface/EffortJointInterface</hardwareInterface>
      <mechanicalReduction>1</mechanicalReduction>
    </actuator>
  </transmission>
  <joint name="RL_hip_joint" type="revolute">
    <origin rpy="0 0 0" xyz="-0.241 0.095 0"/>
    <parent link="trunk"/>
    <child link="RL_hip"/>
    <axis xyz="1 0 0"/>
    <dynamics damping="0" friction="0"/>
    <limit effort="200" lower="-1.13008323737" upper="1.13008323737" velocity="52.4"/>
  </joint>
  <link name="RL_hip">
    <visual>
      <origin rpy="0 3.14159265359 0" xyz="0 0 0"/>
      <geometry>
        <mesh filename="package://quake_description/meshes/hip.STL" scale="1 1 1"/>
      </geometry>
      <material name="orange"/>
    </visual>
    <collision>
      <origin rpy="1.57079632679 0 0" xyz="0 -0.04 0"/>
      <geometry>
        <cylinder length="0.08" radius="0.041"/>
      </geometry>
    </collision>
    <inertial>
      <origin rpy="0 0 0" xyz="0.001568 -0.008134 0.000864"/>
      <mass value="1.8188"/>
      <inertia ixx="0.0047303" ixy="-2.3798e-05" ixz="4.2348e-08" iyy="0.0051123" iyz="-3.807e-06" izz="0.0035171"/>
    </inertial>
  </link>
  <joint name="RL_hip_fixed" type="fixed">
    <origin rpy="0 0 0" xyz="0 0.04 0"/>
    <parent link="RL_hip"/>
    <child link="RL_thigh_shoulder"/>
  </joint>
  <!-- this link is only for collision -->
  <link name="RL_thigh_shoulder">
    <collision>
      <origin rpy="1.57079632679 0 0" xyz="0 0 0"/>
      <geometry>
        <cylinder length="0.08" radius="0.044"/>
      </geometry>
    </collision>
  </link>
  <joint name="RL_thigh_joint" type="revolute">
    <origin rpy="0 0 0" xyz="-0.1065 0.062 0"/>
    <parent link="RL_hip"/>
    <child link="RL_thigh"/>
    <axis xyz="0 -1 0"/>
    <dynamics damping="0" friction="0"/>
    <limit effort="550" lower="-3.40025044874" upper="0.200014732279" velocity="28.6"/>
  </joint>
  <link name="RL_thigh">
    <visual>
      <origin rpy="0 0 0" xyz="0 0 0"/>
      <geometry>
        <mesh filename="package://quake_description/meshes/thigh.STL" scale="1 1 1"/>
      </geometry>
      <material name="orange"/>
    </visual>
    <collision>
      <origin rpy="0 1.57079632679 0" xyz="0 0 -0.18"/>
      <geometry>
        <box size="0.36 0.034 0.043"/>
      </geometry>
    </collision>
    <inertial>
      <origin rpy="0 0 0" xyz="-0.000482 0.02001 -0.031996"/>
      <mass value="1.7272"/>
      <inertia ixx="0.010387" ixy="2.7648e-05" ixz="-0.0006887" iyy="0.013004" iyz="0.00021997" izz="0.0029272"/>
    </inertial>
  </link>
  <joint name="RL_calf_joint" type="revolute">
    <origin rpy="0 0 0" xyz="0 0.062 -0.36"/>
    <parent link="RL_thigh"/>
    <child link="RL_calf"/>
    <axis xyz="0 -1 0"/>
    <dynamics damping="0" friction="0"/>
    <limit effort="550" lower="-0.100007366139" upper="2.90021361804" velocity="28.6"/>
  </joint>
  <link name="RL_calf">
    <visual>
      <origin rpy="0 0 0" xyz="0 0 0"/>
      <geometry>
        <mesh filename="package://quake_description/meshes/calf.STL" scale="1 1 1"/>
      </geometry>
      <surface>
        <friction>
          <ode>
            <mu>100.0</mu>
            <mu2>100.0</mu2>
          </ode>
        </friction>
      </surface>
      <material name="orange"/>
    </visual>
    <collision>
      <origin rpy="0 1.57079632679 0" xyz="0 0 -0.18"/>
      <geometry>
        <box size="0.36 0.016 0.016"/>
      </geometry>
      <surface>
        <friction>
          <ode>
            <mu>100.0</mu>
            <mu2>100.0</mu2>
          </ode>
        </friction>
      </surface>
    </collision>
    <inertial>
      <origin rpy="0 0 0" xyz="-0.002196 -0.000381 -0.12338"/>
      <mass value="0.30254"/>
      <inertia ixx="0.0031787" ixy="-1.5425e-07" ixz="0.0002511" iyy="0.0032683" iyz="3.2937e-07" izz="0.0001467"/>
    </inertial>
  </link>
  <joint name="RL_foot_fixed" type="fixed">
    <origin rpy="0 0 0" xyz="0 0 -0.36"/>
    <parent link="RL_calf"/>
    <child link="RL_foot"/>
  </joint>
  <link name="RL_foot">
    <visual>
      <origin rpy="0 0 0" xyz="0 0 0"/>
      <geometry>
        <sphere radius="0.032"/>
      </geometry>
      <surface>
        <friction>
          <ode>
            <mu>100.0</mu>
            <mu2>100.0</mu2>
          </ode>
        </friction>
      </surface>
      <material name="orange"/>
    </visual>
    <collision>
      <origin rpy="0 0 0" xyz="0 0 0"/>
      <geometry>
        <sphere radius="0.042"/>
      </geometry>
      <surface>
        <friction>
          <ode>
            <mu>100.0</mu>
            <mu2>100.0</mu2>
          </ode>
        </friction>
        <!-- <contact>
                <min_depth>0.01</min_depth>
                </contact> -->
      </surface>
    </collision>
    <inertial>
      <mass value="0.06"/>
      <inertia ixx="4.2336e-05" ixy="0.0" ixz="0.0" iyy="4.2336e-05" iyz="0.0" izz="4.2336e-05"/>
    </inertial>
  </link>
  <transmission name="RL_hip_tran">
    <type>transmission_interface/SimpleTransmission</type>
    <joint name="RL_hip_joint">
      <hardwareInterface>hardware_interface/EffortJointInterface</hardwareInterface>
    </joint>
    <actuator name="RL_hip_motor">
      <hardwareInterface>hardware_interface/EffortJointInterface</hardwareInterface>
      <mechanicalReduction>1</mechanicalReduction>
    </actuator>
  </transmission>
  <transmission name="RL_thigh_tran">
    <type>transmission_interface/SimpleTransmission</type>
    <joint name="RL_thigh_joint">
      <hardwareInterface>hardware_interface/EffortJointInterface</hardwareInterface>
    </joint>
    <actuator name="RL_thigh_motor">
      <hardwareInterface>hardware_interface/EffortJointInterface</hardwareInterface>
      <mechanicalReduction>1</mechanicalReduction>
    </actuator>
  </transmission>
  <transmission name="RL_calf_tran">
    <type>transmission_interface/SimpleTransmission</type>
    <joint name="RL_calf_joint">
      <hardwareInterface>hardware_interface/EffortJointInterface</hardwareInterface>
    </joint>
    <actuator name="RL_calf_motor">
      <hardwareInterface>hardware_interface/EffortJointInterface</hardwareInterface>
      <mechanicalReduction>1</mechanicalReduction>
    </actuator>
  </transmission>
  <!-- <xacro:arm parent="trunk">
         <origin xyz="0. 0 0.1" rpy="0 0 0" />
    </xacro:arm> -->
</robot>
